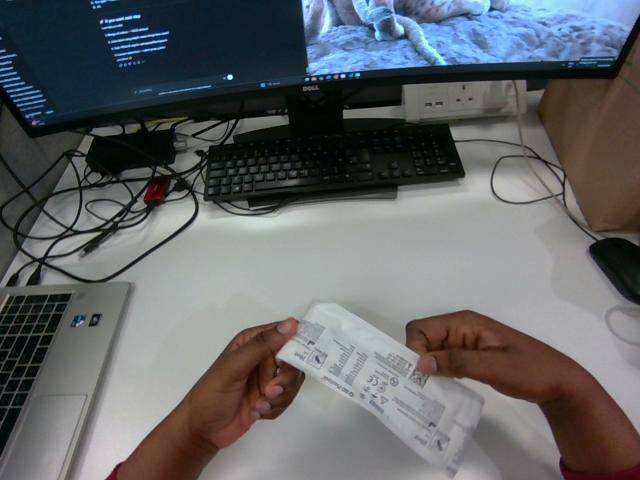syringe: (277, 302, 483, 476)
